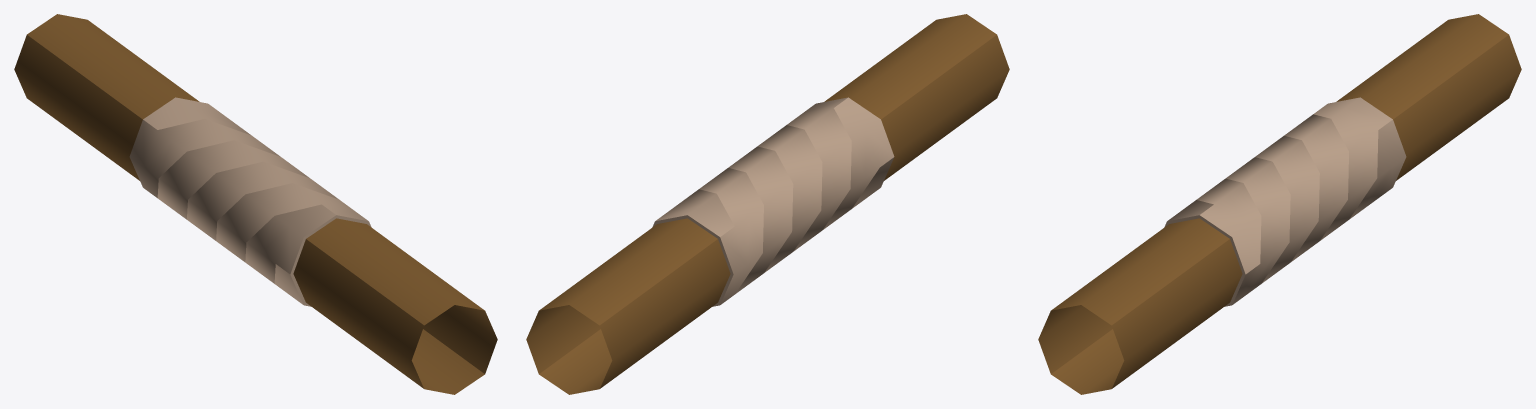
The model's file is beam.fbx.
3 views of the same model, side by side, from view 1: azimuth 30°, elevation 25°; view 2: azimuth 150°, elevation 25°; view 3: azimuth 330°, elevation 25° (orthographic).
Parts seen in each view (by area): view 1: wood, hook; view 2: wood, hook; view 3: wood, hook.
Part boxes in pixels (x1,y1,x2,y2): wood: (14, 14, 497, 394); hook: (129, 97, 371, 306); wood: (526, 14, 1009, 394); hook: (652, 97, 894, 306); wood: (1038, 14, 1521, 394); hook: (1164, 97, 1406, 306).
Bounding box in the file's own units: 3.21 × 3.21 × 24.
